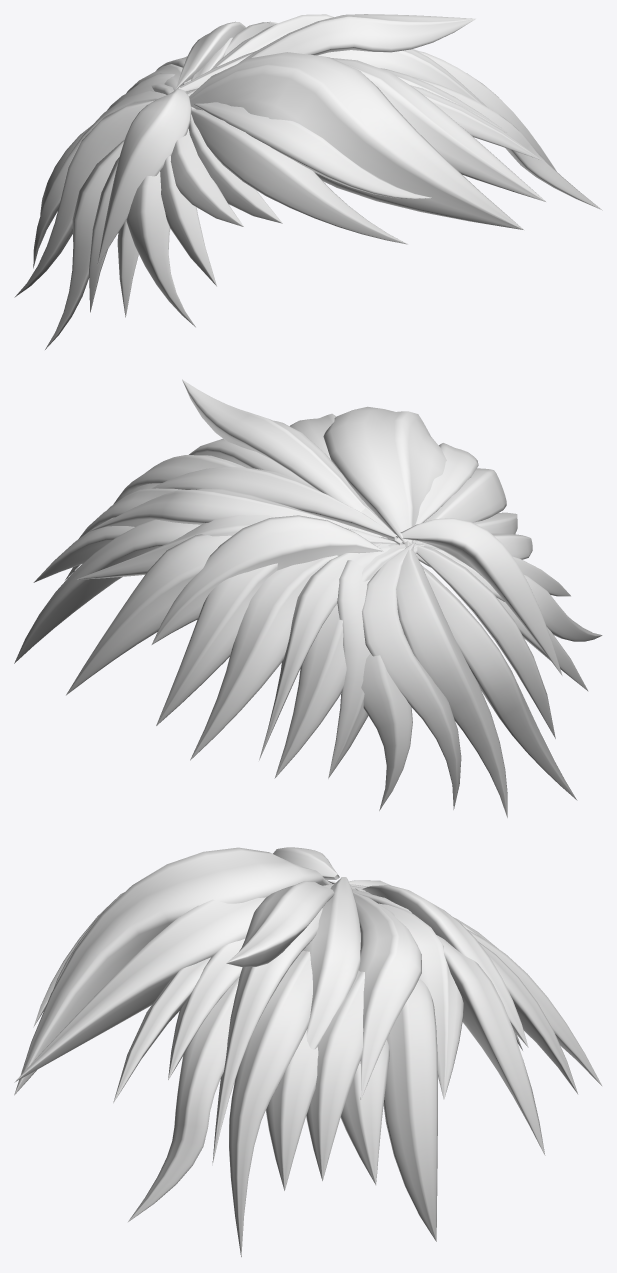
File: haird2.fbx
3 renders of one model, top to bottom at view 1: azimuth 30°, elevation 25°; view 2: azimuth 150°, elevation 25°; view 3: azimuth 270°, elevation 25°, orthographic. The views are drawn at different scales.
Visible parts, largest first — view 1: NurbsPath.032; view 2: NurbsPath.032; view 3: NurbsPath.032.
Boxes of the visible parts, x1,y1,x2,y2 form: NurbsPath.032: (14, 14, 602, 349); NurbsPath.032: (14, 379, 602, 817); NurbsPath.032: (14, 847, 602, 1256).
Bounding box in the file's own units: 259 × 294 × 153.
